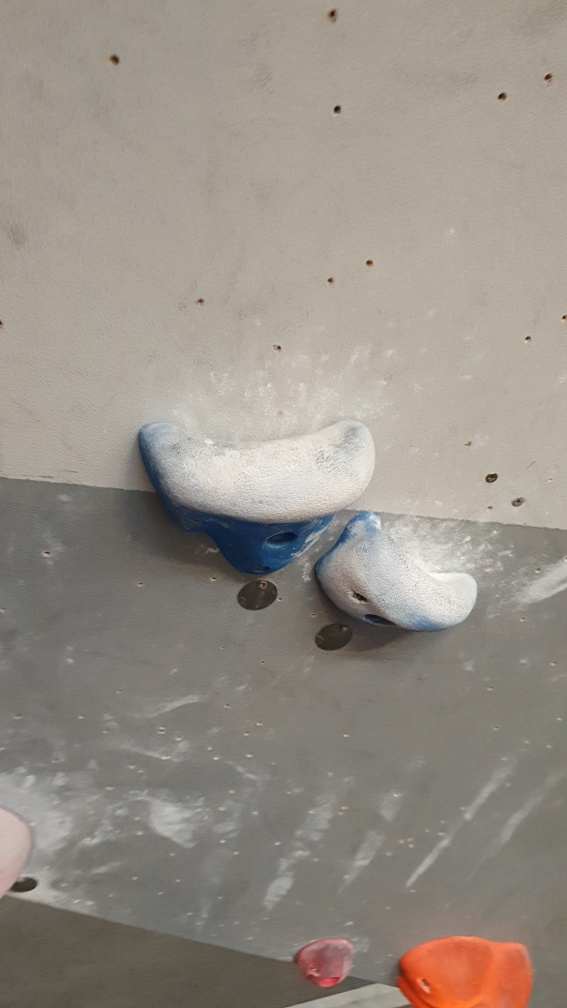Hand Start: (237, 572, 277, 616), (313, 621, 355, 652)
Jug: (134, 415, 383, 573), (312, 507, 483, 634)
